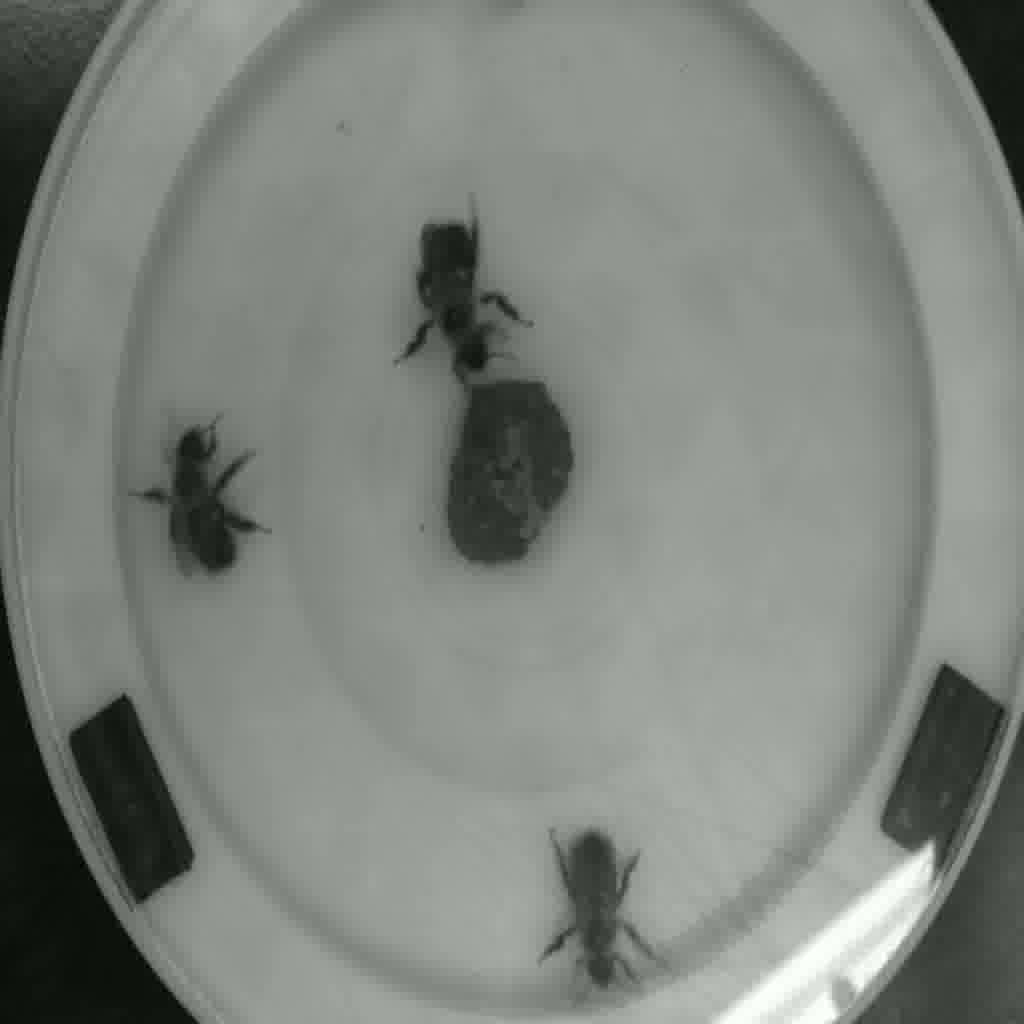bee: (133, 417, 268, 576), (531, 832, 667, 987), (408, 200, 518, 389)
